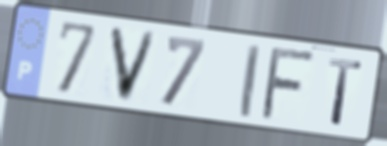7: (161, 32, 209, 111), (57, 18, 99, 98)
F: (257, 45, 320, 123)
I: (238, 41, 263, 122)
T: (326, 55, 365, 130)
V: (106, 23, 161, 106)
